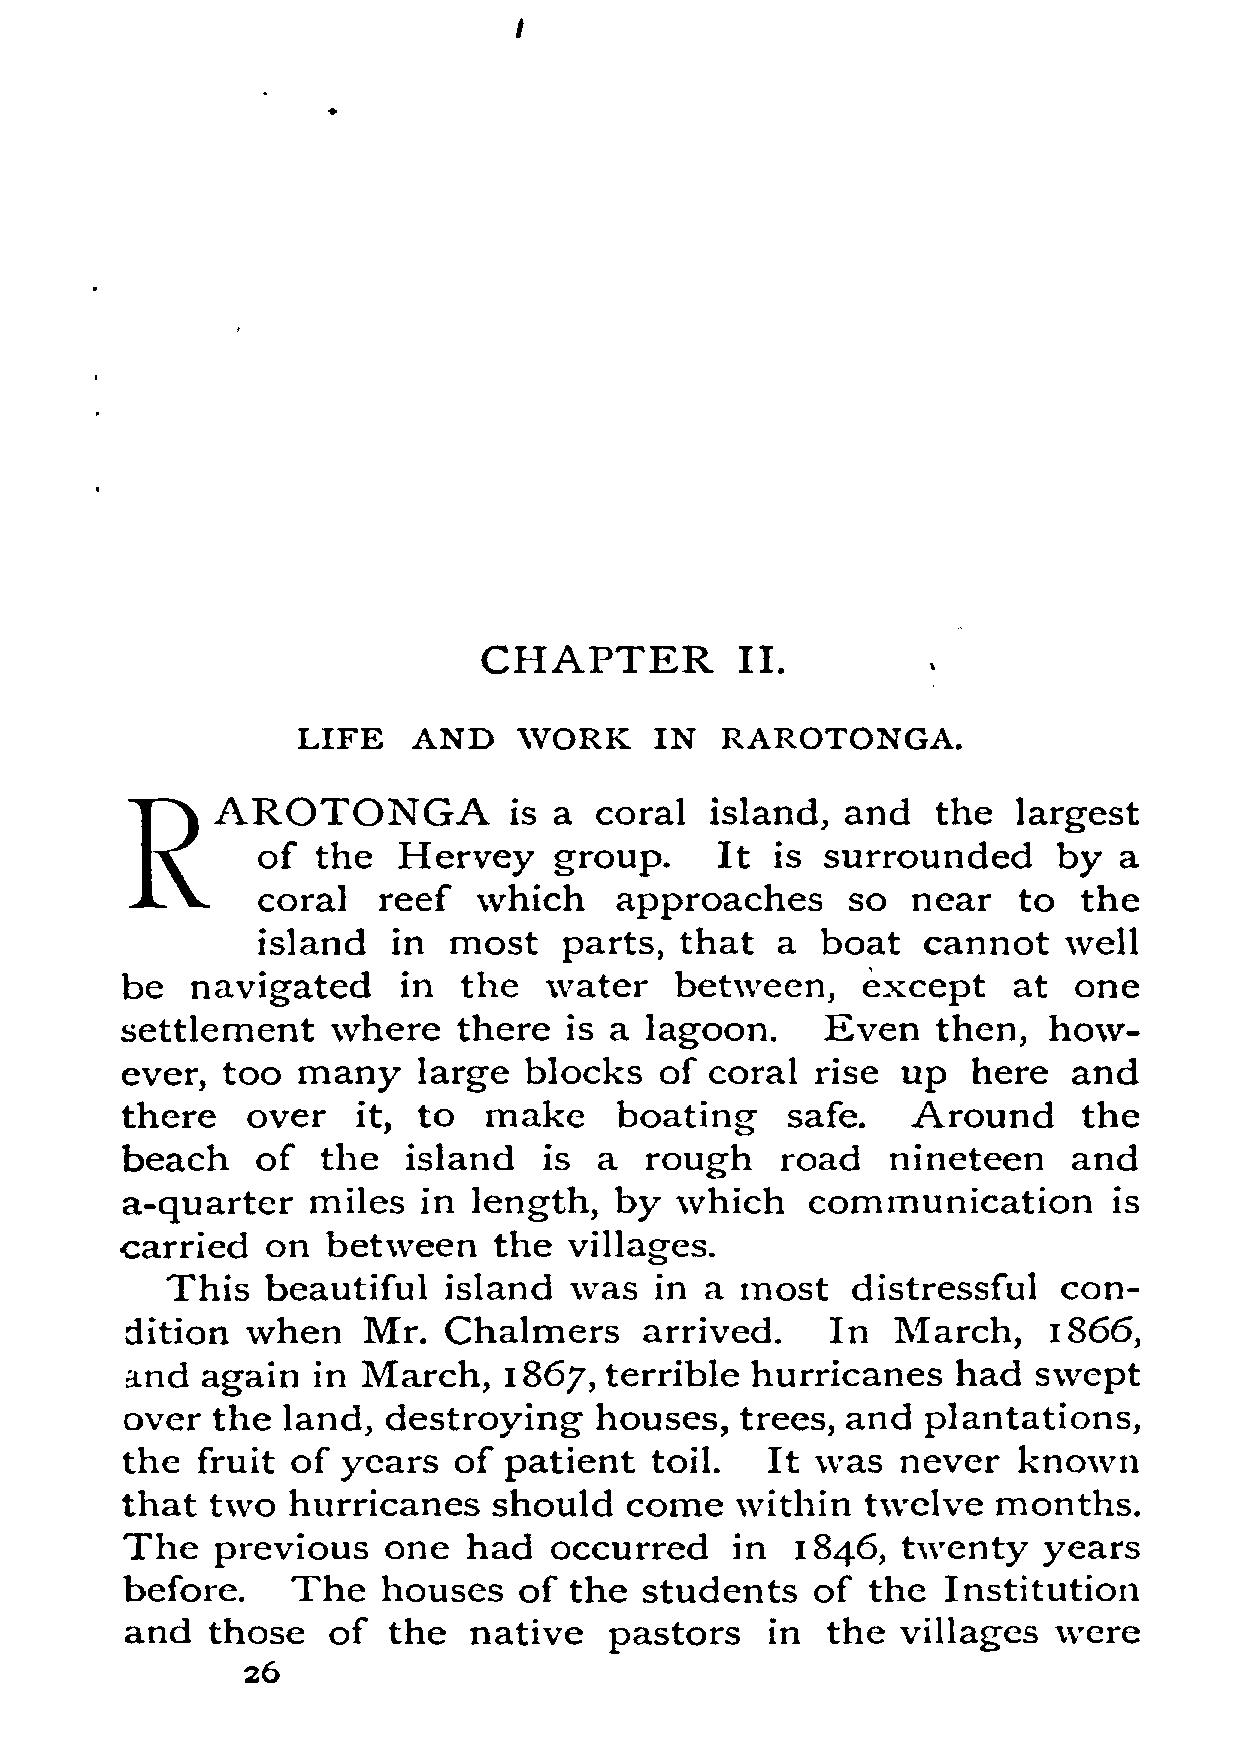chapter: (297, 641, 960, 752)
content: (119, 793, 1142, 1653)
content_pagenumber: (240, 1659, 280, 1691)
